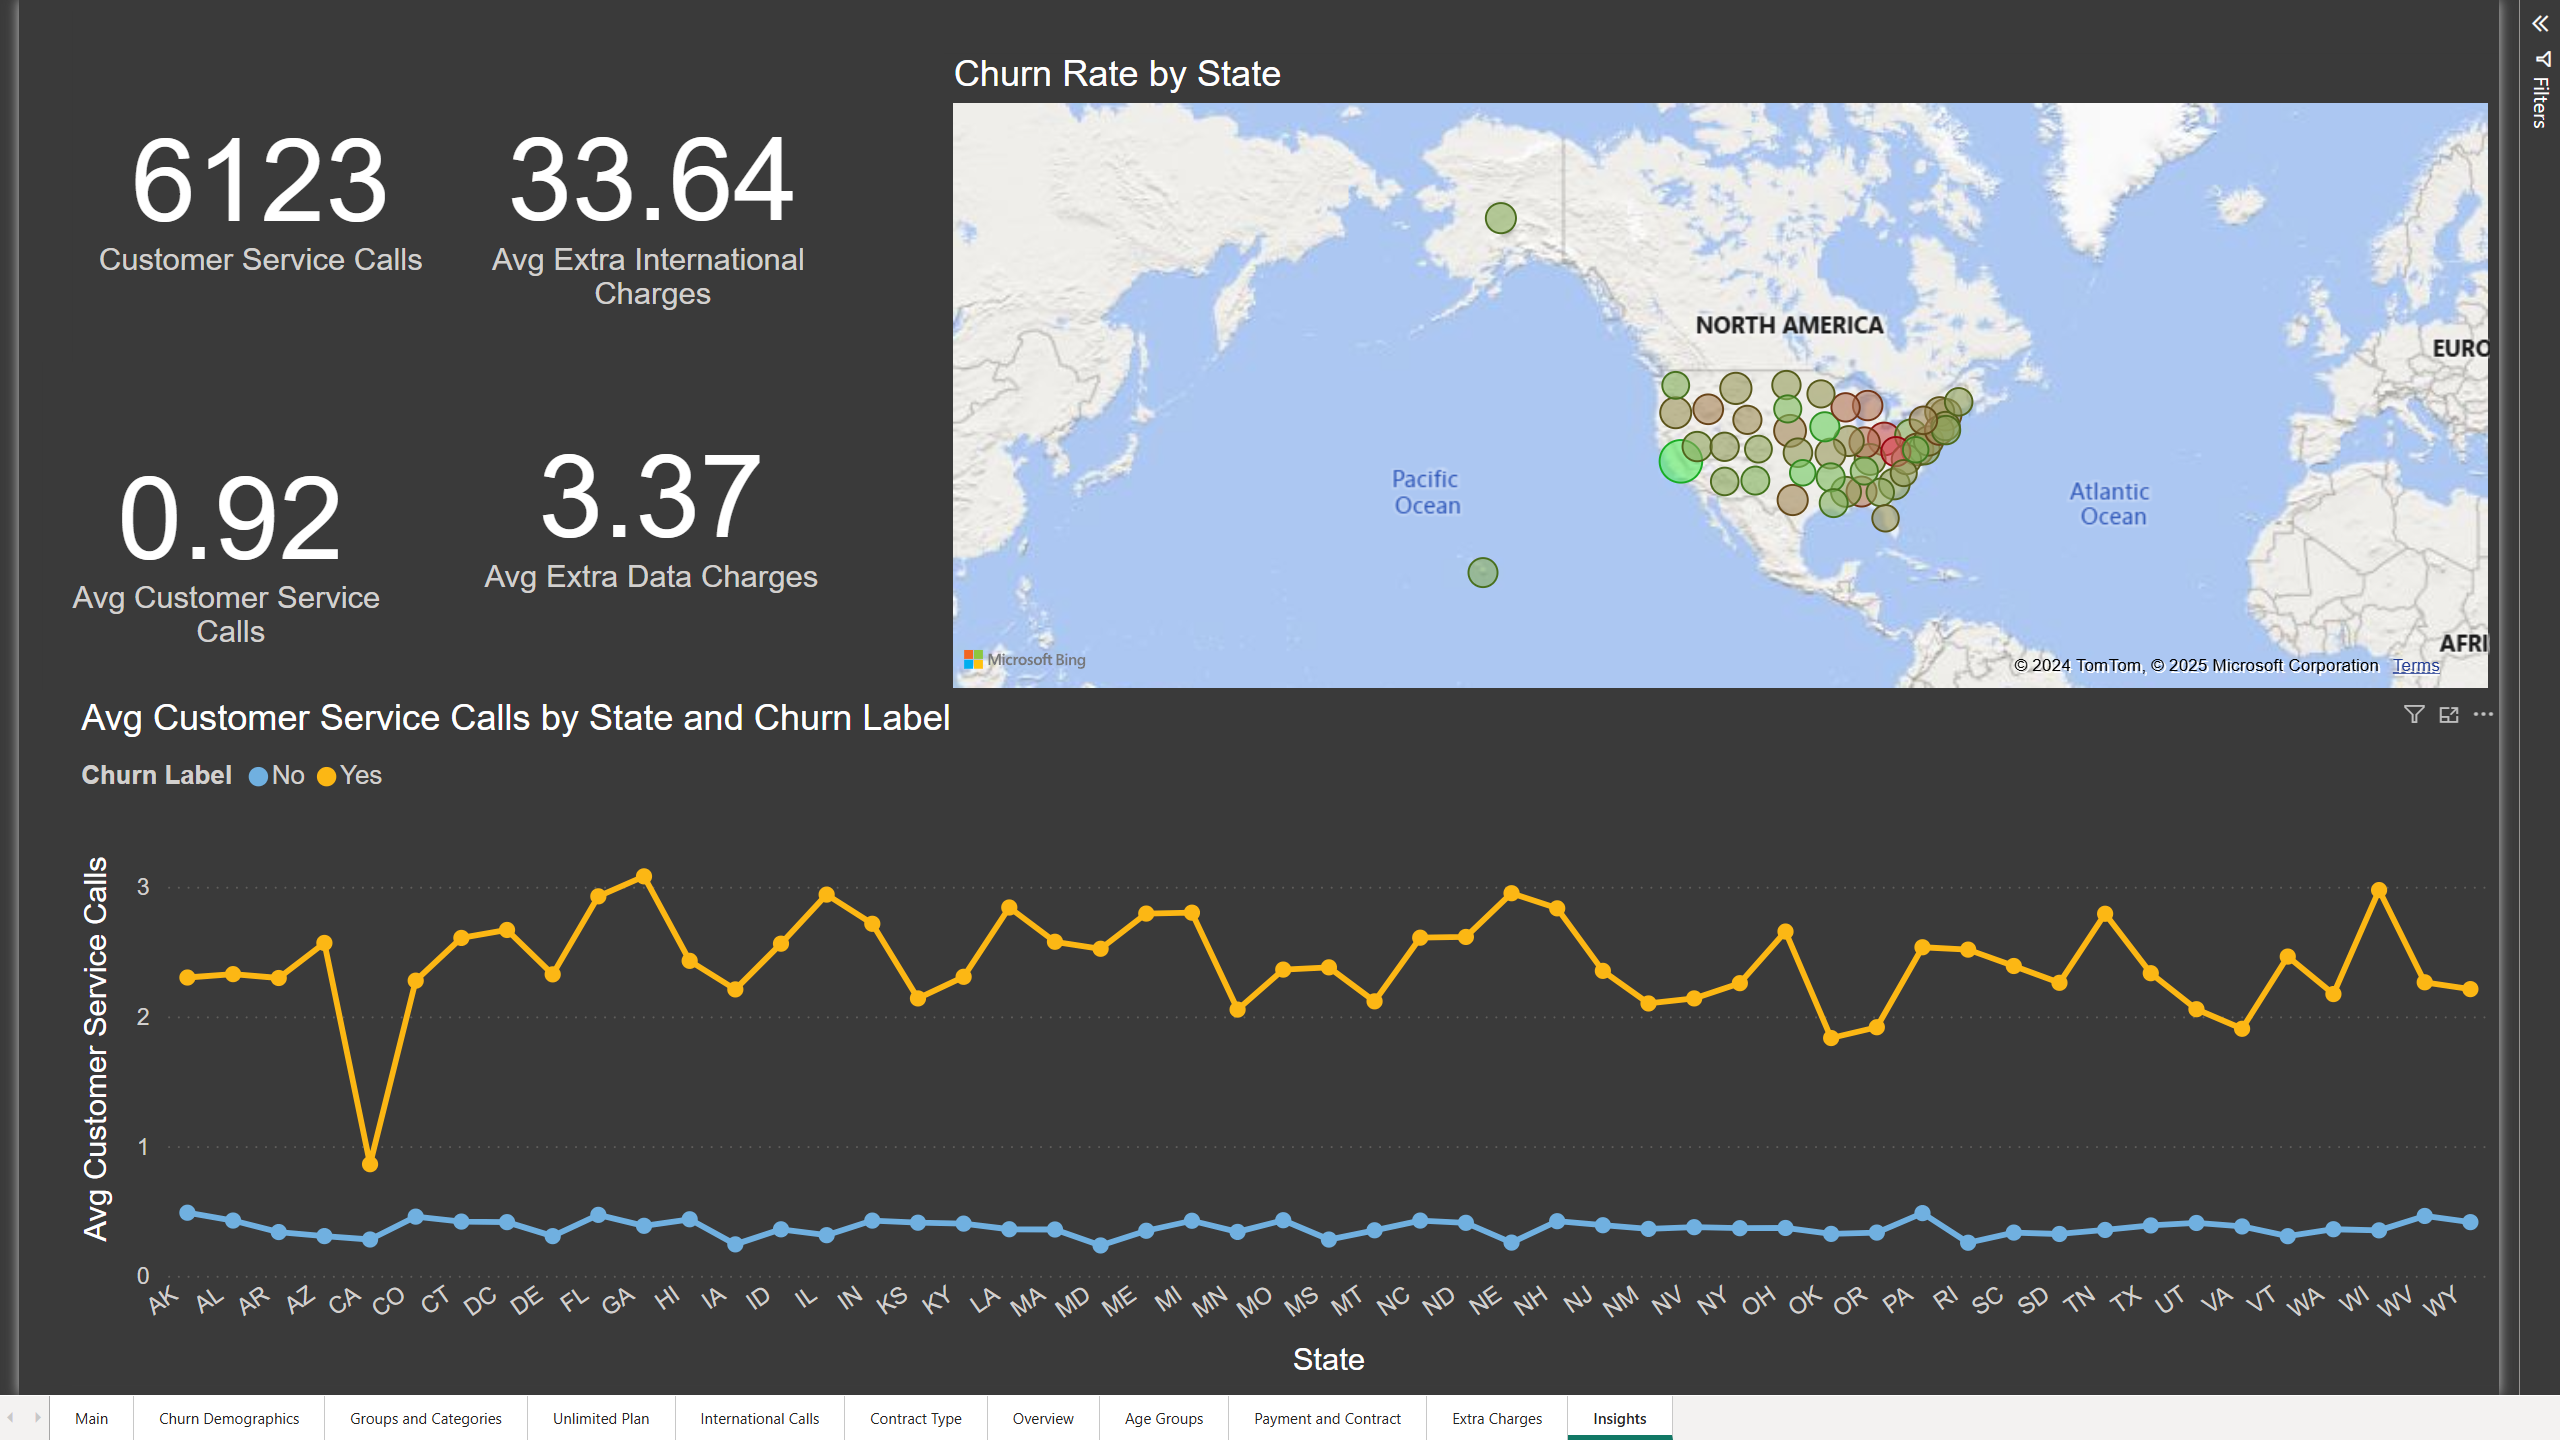

The page's visual inventory and layout, read from the dashboard file:
{"tool":"powerbi","page":{"name":"Insights","canvas":[1280,720],"ordinal":10},"visuals":[{"type":"card","fields":{"Values":["Sum(Databel - Data.Customer Service Calls)"]},"box":[27.6,6.1,194.4,182.2],"z":0},{"type":"card","fields":{"Values":["Databel - Data.Avg Customer Service Calls"]},"box":[12.2,186.8,194.4,168.4],"z":1000},{"type":"card","fields":{"Values":["Databel - Data.Avg Extra International Charges"]},"box":[222.2,0,210.7,193.4],"z":2000},{"type":"card","fields":{"Values":["Databel - Data.Avg Extra Data Charges"]},"box":[209.9,165.4,233.7,190.1],"z":3000},{"type":"lineChart","fields":{"Category":["Databel - Data.State"],"Y":["Databel - Data.Avg Customer Service Calls"],"Series":["Databel - Data.Churn Label"]},"box":[27.2,359.9,1252.8,355],"z":4000},{"type":"map","fields":{"Category":["Databel - Data.State"],"Size":["Databel - Data.Churn Rate"]},"box":[477.7,27.6,802.3,332.2],"z":5000}]}

Visuals, with their boxes on the page's 1280x720 design canvas (x1, y1, x2, y2). These are canvas units, not pixel positions in the 2560x1440 screenshot, which may show the page scaled, cropped or inside an application window:
card - Sum(Databel - Data.Customer Service Calls): pyautogui.locateOnScreen(28, 6, 222, 188)
card - Databel - Data.Avg Customer Service Calls: pyautogui.locateOnScreen(12, 187, 207, 355)
card - Databel - Data.Avg Extra International Charges: pyautogui.locateOnScreen(222, 0, 433, 193)
card - Databel - Data.Avg Extra Data Charges: pyautogui.locateOnScreen(210, 165, 444, 356)
lineChart - Databel - Data.State x Databel - Data.Avg Customer Service Calls: pyautogui.locateOnScreen(27, 360, 1280, 715)
map - Databel - Data.State x Databel - Data.Churn Rate: pyautogui.locateOnScreen(478, 28, 1280, 360)
